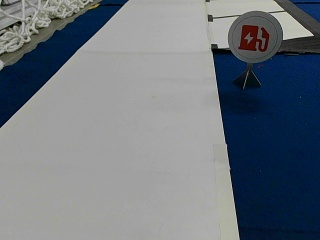battery: (226, 10, 282, 62)
